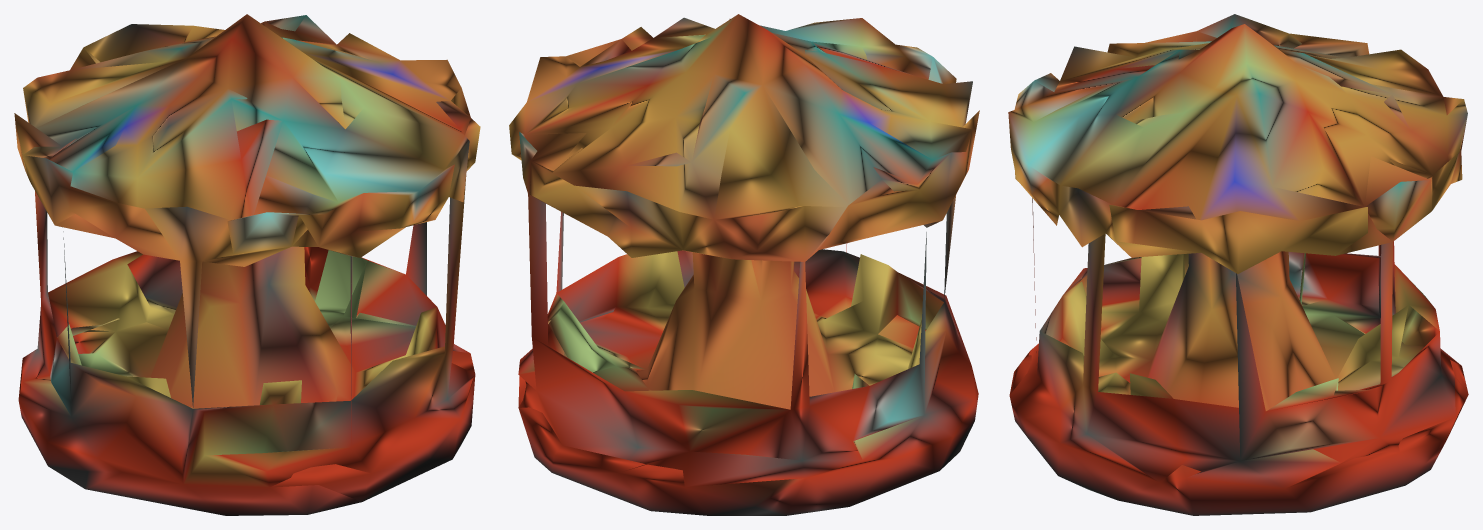
The model's file is gen3d-carousel-lod1.glb.
The picture shows the model from 3 angles, left to right: view 1: azimuth 30°, elevation 25°; view 2: azimuth 150°, elevation 25°; view 3: azimuth 270°, elevation 25°; orthographic projection. The views are drawn at different scales.
Parts seen in each view (by area): view 1: part_0; view 2: part_0; view 3: part_0.
Boxes of the visible parts, x1,y1,x2,y2 form: part_0: [14, 14, 480, 515]; part_0: [509, 14, 979, 515]; part_0: [1008, 14, 1468, 515].
Bounding box in the file's own units: 1.02 × 0.9877 × 1.02.
